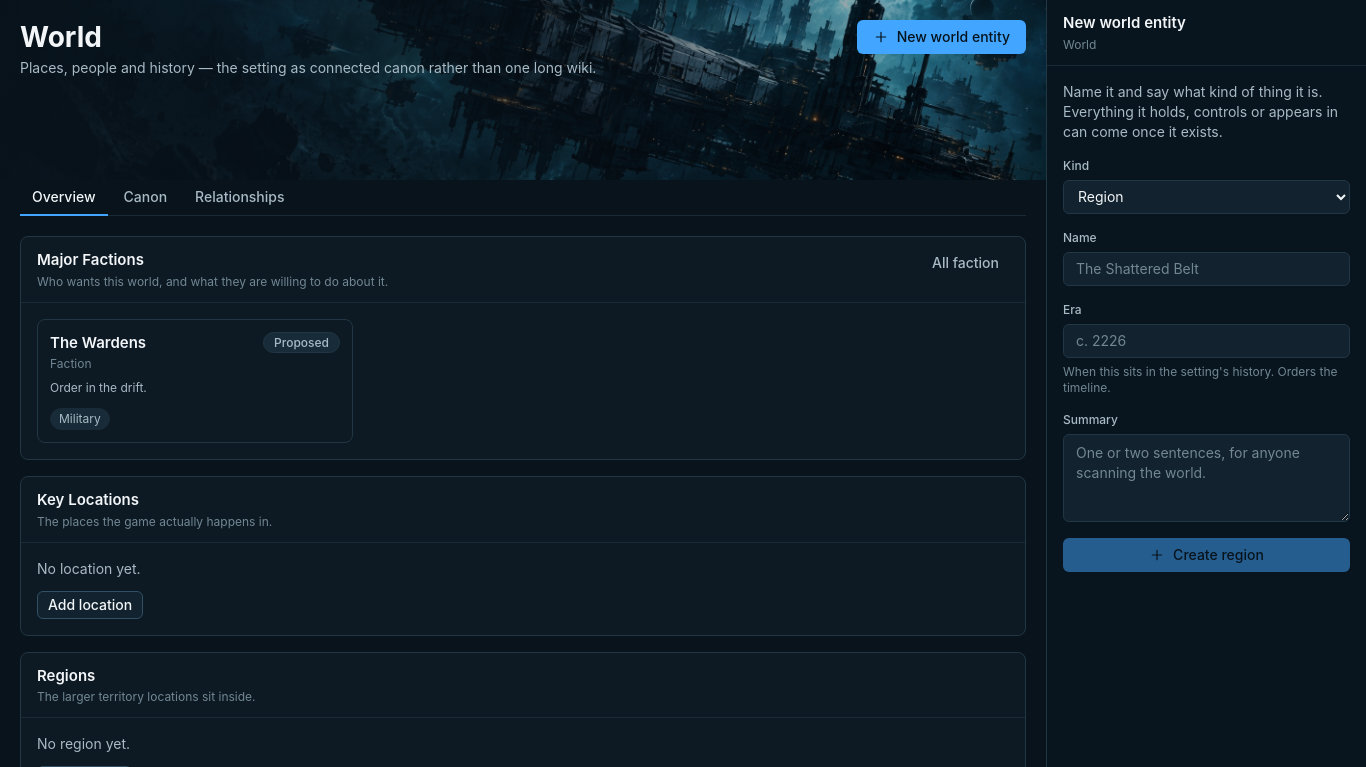
Test: World workspace › relationships › has nothing to read the world from until the project has a place
Expected: the heading "Major Factions" is shown, top-left (37, 250), bottom-right (144, 269)
Click the tab "Relationships". click: (240, 198)
box: top-left (183, 180), bottom-right (296, 216)
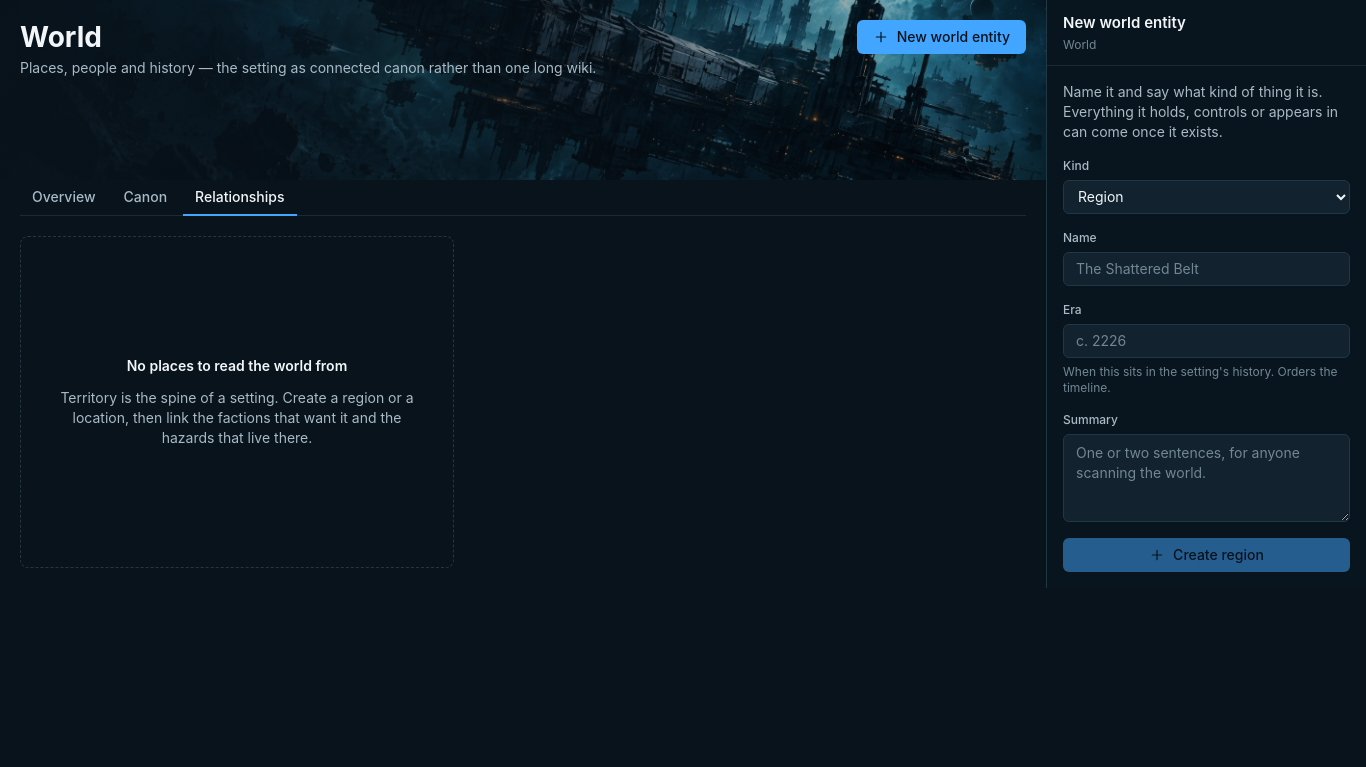
Expected: the text "No places to read the world from" is shown, top-left (127, 356), bottom-right (347, 376)
